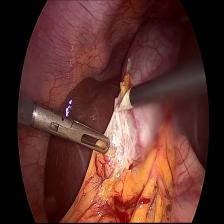Grasper: (49, 113, 111, 159)
Hook: (111, 87, 139, 115)
